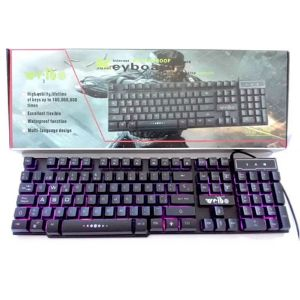keyboard: (9, 154, 292, 237), (105, 82, 270, 128)
